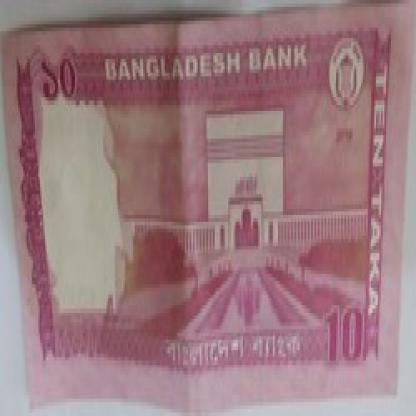Ten Taka: (316, 288, 365, 367), (35, 48, 90, 111)
